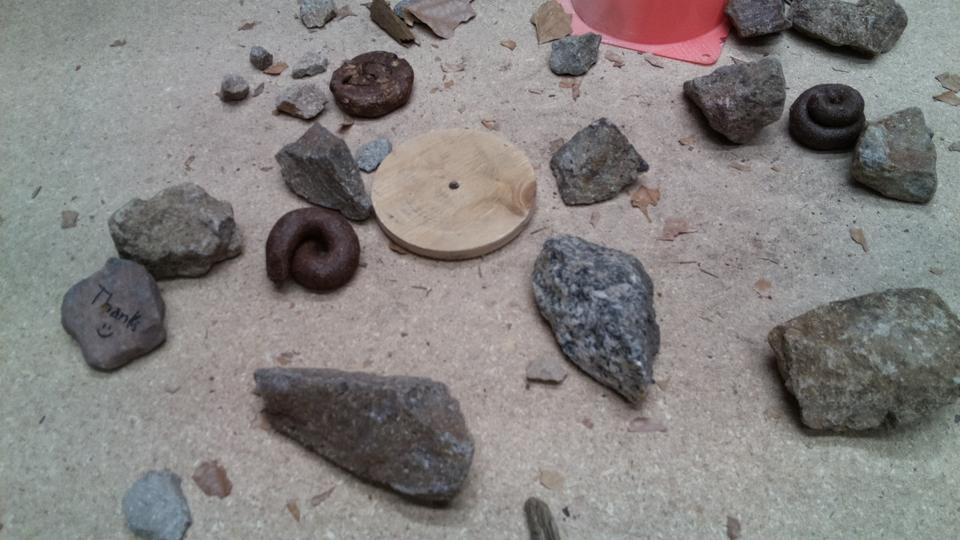poop: (263, 202, 362, 295), (328, 49, 415, 121), (786, 82, 869, 156)
